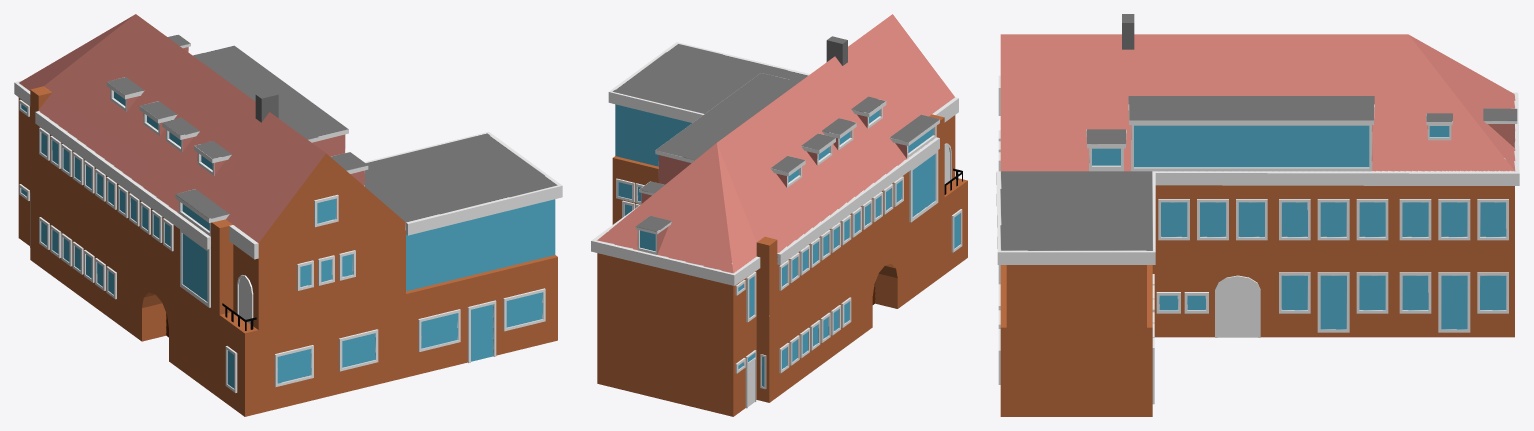
Rendered from SM_ChildcareFS.fbx.
The picture shows the model from 3 angles, left to right: view 1: azimuth 30°, elevation 25°; view 2: azimuth 150°, elevation 25°; view 3: azimuth 270°, elevation 25°; orthographic projection. The views are drawn at different scales.
Parts seen in each view (by area): view 1: KinderopvangFS_M; view 2: KinderopvangFS_M; view 3: KinderopvangFS_M.
Boxes of the visible parts, <box> form: KinderopvangFS_M: <box>14,14,562,416</box>; KinderopvangFS_M: <box>591,14,967,416</box>; KinderopvangFS_M: <box>996,14,1519,416</box>.
Bounding box in the file's own units: 124 × 96.04 × 164.
